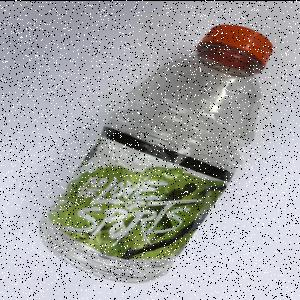Plastic-bottle: (38, 24, 276, 286)
